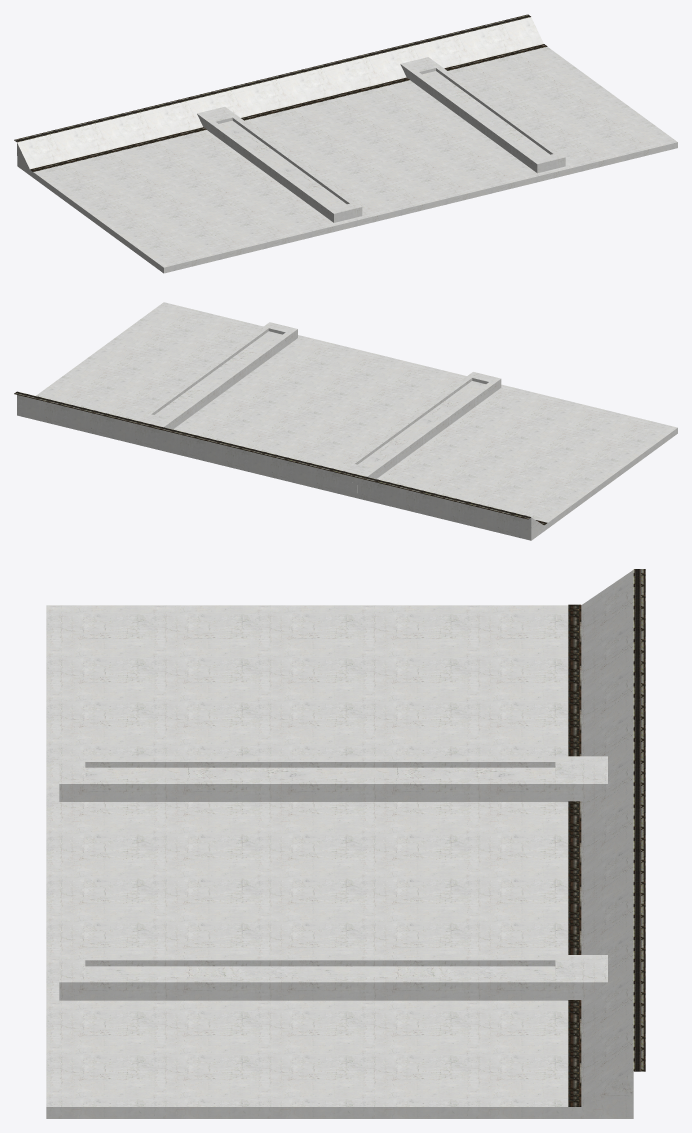
Rendered from Outside1.fbx.
The picture shows the model from 3 angles, top to bottom: view 1: azimuth 30°, elevation 25°; view 2: azimuth 150°, elevation 25°; view 3: azimuth 270°, elevation 25°; orthographic projection. The views are drawn at different scales.
Visible parts, largest first — view 1: Outside_1.001; view 2: Outside_1.001; view 3: Outside_1.001.
Part boxes in pixels (x1,y1,x2,y2): Outside_1.001: [14, 14, 677, 273]; Outside_1.001: [14, 302, 677, 540]; Outside_1.001: [46, 569, 645, 1118].
Size of the model in its own units: 63410 by 2831 by 32006.
2 materials, 2 textured.
